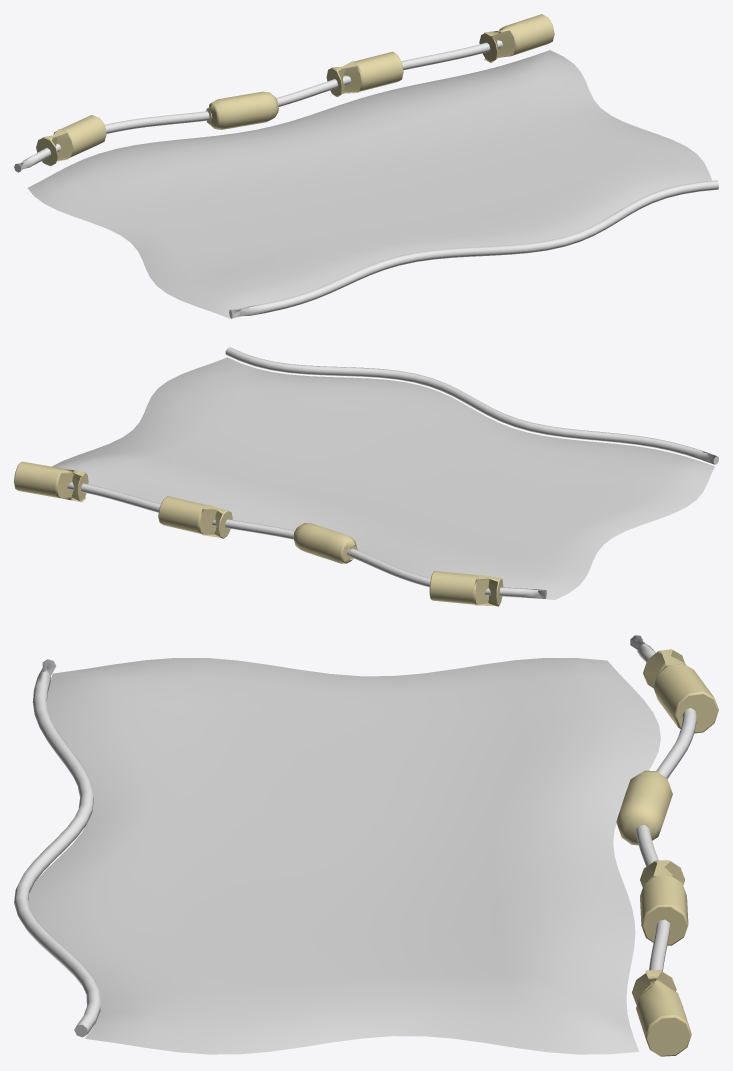
File: propbeach_net_spread_1.glb
The picture shows the model from 3 angles, top to bottom: view 1: azimuth 30°, elevation 25°; view 2: azimuth 150°, elevation 25°; view 3: azimuth 270°, elevation 25°; orthographic projection. The views are drawn at different scales.
Visible parts, largest first — view 1: pb_net_spread_1_pb_netopen, pb_net_spread_1_bamboo, pb_net_spread_1_pb_rope; view 2: pb_net_spread_1_pb_netopen, pb_net_spread_1_bamboo, pb_net_spread_1_pb_rope; view 3: pb_net_spread_1_pb_netopen, pb_net_spread_1_bamboo, pb_net_spread_1_pb_rope.
Boxes of the visible parts, left/top/right/bottom form: pb_net_spread_1_pb_netopen: left=27, top=50, right=712, bottom=318; pb_net_spread_1_bamboo: left=36, top=14, right=554, bottom=166; pb_net_spread_1_pb_rope: left=14, top=40, right=718, bottom=318; pb_net_spread_1_pb_netopen: left=52, top=357, right=714, bottom=599; pb_net_spread_1_bamboo: left=14, top=461, right=503, bottom=606; pb_net_spread_1_pb_rope: left=67, top=347, right=718, bottom=598; pb_net_spread_1_pb_netopen: left=28, top=658, right=660, bottom=1054; pb_net_spread_1_bamboo: left=616, top=649, right=718, bottom=1056; pb_net_spread_1_pb_rope: left=14, top=635, right=696, bottom=1037.
Bounding box in the file's own units: 2.6 × 0.1236 × 1.94.
